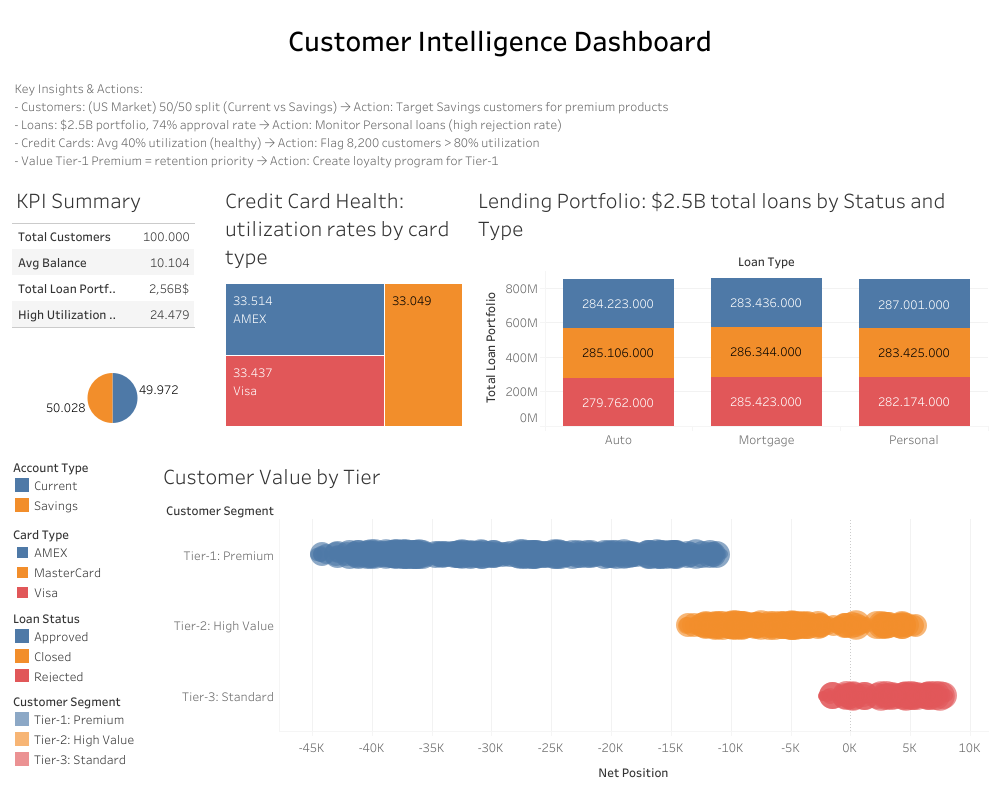

The page's visual inventory and layout, read from the dashboard file:
{"tool":"tableau","page":{"name":"Customer Intelligence Dashboard","canvas":[1000,800],"ordinal":0},"visuals":[{"type":"text","box":[8,8,984,64]},{"type":"text","box":[8,72,984,103.5]},{"type":"worksheet","title":"KPI Summary","mark":"Automatic","box":[8,175.5,209,168.5]},{"type":"worksheet","title":"Credit Cards","mark":"Automatic","box":[217,175.5,253.3,276.5]},{"type":"worksheet","title":"Loans","mark":"Automatic","rows":["total_loan_portfolio"],"cols":["loan_type"],"box":[470.3,175.5,521.7,276.5]},{"type":"worksheet","title":"Customers","mark":"Pie","box":[8,344,209,108]},{"type":"legend","title":"Customers","param":"[federated.0n13qk20v2wk0m11jlkg01qcs04l].[none:account_type:nk]","box":[8,452,147,67]},{"type":"worksheet","title":"Value & Profitability","mark":"Circle","rows":["customer_segment"],"cols":["net_position"],"box":[155,452,837,340]},{"type":"legend","title":"Credit Cards","param":"[federated.0yo88hl1c564ik16fcv0l1kfe3rs].[none:card_type:nk]","box":[8,519,147,83.7]},{"type":"legend","title":"Loans","param":"[federated.02jrzsc1usk6jg1bewkzc1iykmg9].[none:loan_status:nk]","box":[8,602.7,147,83.7]},{"type":"legend","title":"Value & Profitability","param":"[federated.1k58w6l132xq8e11o6lg90618wbq].[none:customer_segment:nk]","box":[8,686.3,147,83.7]},{"type":"legend","title":"Credit Cards","param":"[federated.0yo88hl1c564ik16fcv0l1kfe3rs].[sum:num_cards:qk]","box":[8,770,147,22]}]}

Visuals, with their boxes in screenshot pixels (x1, y1, x2, y2), scaled from the page's 1000x800 canvas onto the 999x799 screenshot:
text: region(8, 8, 991, 72)
text: region(8, 72, 991, 175)
"KPI Summary" worksheet: region(8, 175, 217, 344)
"Credit Cards" worksheet: region(217, 175, 470, 451)
"Loans" worksheet: region(470, 175, 991, 451)
"Customers" worksheet (Pie marks): region(8, 344, 217, 451)
"Customers" legend: region(8, 451, 155, 518)
"Value & Profitability" worksheet (Circle marks): region(155, 451, 991, 791)
"Credit Cards" legend: region(8, 518, 155, 602)
"Loans" legend: region(8, 602, 155, 686)
"Value & Profitability" legend: region(8, 685, 155, 769)
"Credit Cards" legend: region(8, 769, 155, 791)
